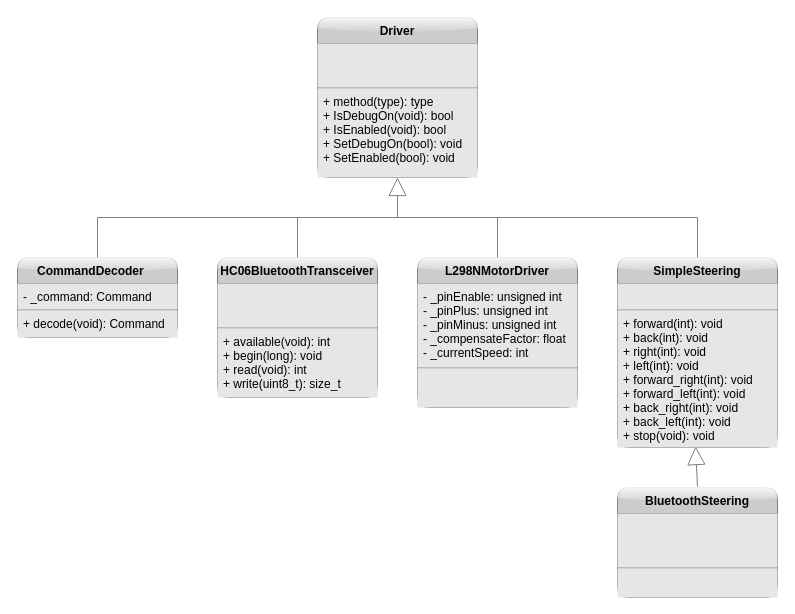
This 795x614 diagram has some shape labels left out. The shapes that lost their labels are listed below. From the top down, each one's centre as x and y in pixels, then its label:
At pixel 397 65: "- _isDebugOn: bool - _isEnabled: bool".
At pixel 297 305: "- _pinTX: unsigned int - _pinRX: unsigned int".
At pixel 697 296: "- _turnSpeedDifference: int".
At pixel 497 387: "+ SetSpeed(int): void + GetSpeed(void): int".
At pixel 697 540: "- _minSpeed: int - _maxSpeed: int - _currentSpeed: int".
At pixel 697 582: "+ run(void): void".
